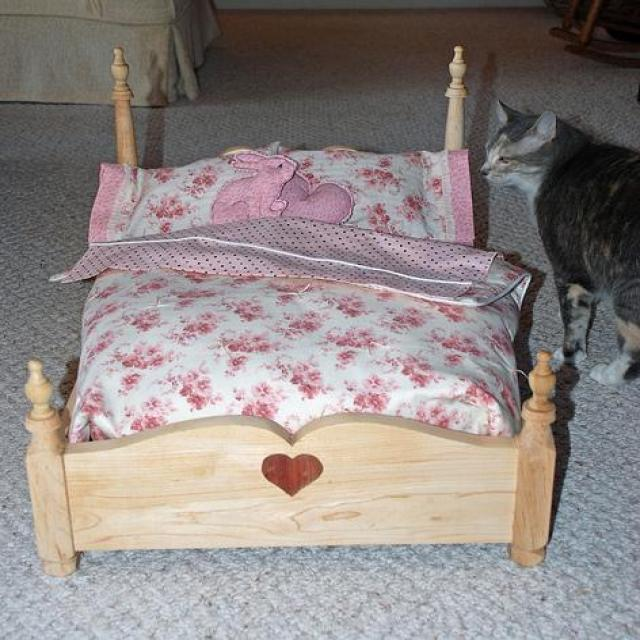bed: (22, 42, 560, 576)
